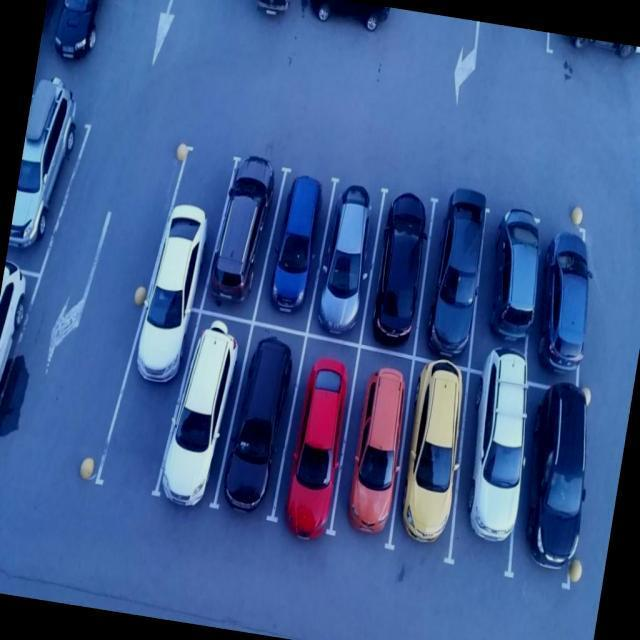space-occupied: (101, 299, 197, 486), (389, 360, 477, 560), (330, 348, 418, 546), (506, 394, 594, 584), (166, 309, 250, 507), (448, 375, 531, 570), (279, 331, 357, 526), (523, 214, 604, 394), (199, 155, 288, 318), (147, 145, 235, 303), (229, 330, 304, 510), (253, 167, 335, 328), (359, 186, 436, 356), (412, 196, 491, 361), (467, 205, 542, 375), (311, 185, 386, 332)
